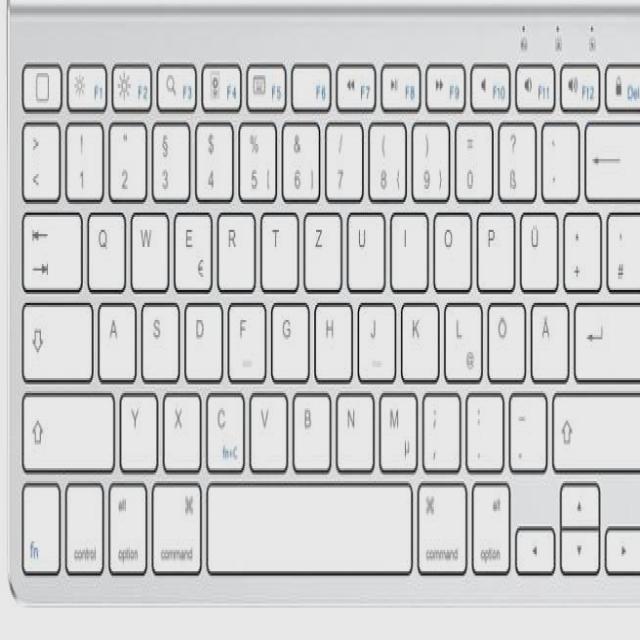0: (452, 114, 491, 198)
1: (63, 116, 102, 196)
2: (106, 116, 146, 196)
3: (149, 116, 188, 196)
4: (192, 116, 231, 196)
5: (235, 114, 274, 198)
6: (279, 114, 318, 196)
7: (322, 116, 361, 198)
8: (365, 116, 404, 198)
9: (408, 116, 448, 198)
a: (95, 294, 134, 376)
accent: (539, 114, 577, 196)
ae: (528, 294, 567, 376)
alt-left: (106, 475, 147, 571)
altgr-right: (470, 475, 510, 571)
b: (289, 384, 329, 466)
c: (202, 384, 243, 466)
comma: (419, 384, 459, 466)
d: (181, 294, 221, 376)
del: (582, 114, 640, 196)
e: (171, 204, 210, 288)
enter: (570, 294, 640, 376)
f: (225, 294, 264, 376)
g: (268, 294, 307, 376)
h: (311, 294, 350, 376)
hash: (604, 204, 640, 286)
i: (388, 204, 427, 286)
j: (355, 294, 393, 376)
k: (398, 294, 436, 376)
keyboard: (4, 11, 640, 601)
l: (441, 294, 480, 378)
less: (20, 116, 58, 196)
m: (376, 384, 415, 466)
minus: (505, 384, 545, 466)
n: (333, 384, 372, 466)
o: (431, 204, 470, 286)
oe: (484, 294, 523, 376)
p: (473, 204, 512, 286)
plus: (560, 204, 599, 286)
point: (463, 384, 502, 466)
q: (84, 204, 123, 286)
r: (215, 204, 254, 288)
s: (138, 294, 178, 376)
shift-left: (20, 382, 114, 468)
shift-lock: (19, 294, 91, 376)
shift-right: (550, 385, 640, 469)
space: (203, 475, 412, 571)
ss: (495, 114, 534, 196)
strg-left: (62, 477, 103, 571)
t: (258, 204, 296, 286)
tab: (18, 202, 80, 288)
u: (344, 204, 383, 288)
ue: (517, 204, 556, 288)
v: (246, 384, 286, 466)
w: (127, 204, 167, 286)
x: (160, 384, 199, 466)
y: (116, 384, 155, 466)
z: (301, 204, 340, 288)
